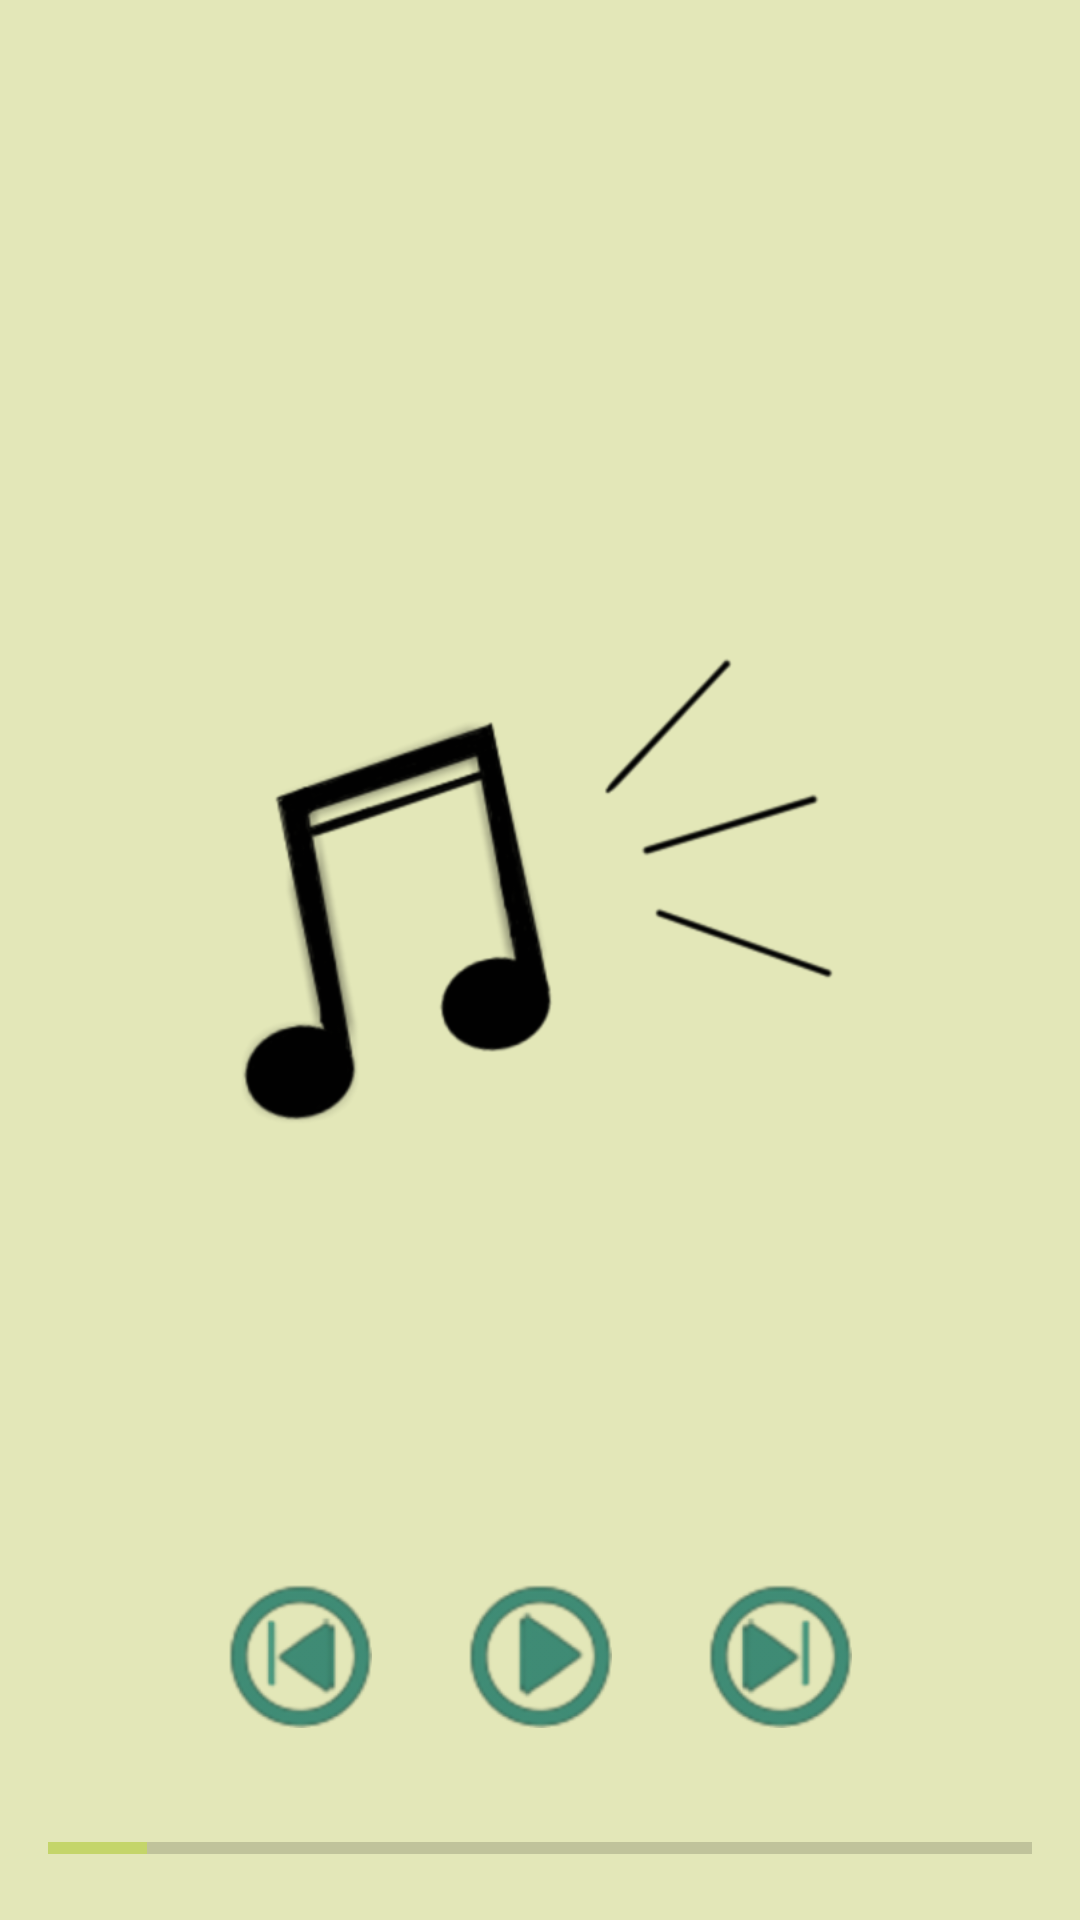

Named icons in this screenshot (1080px×1920px) and their bounding boxes, (x1, y1, x2, y2):
left: (230, 1586, 372, 1728)
right: (710, 1586, 852, 1728)
